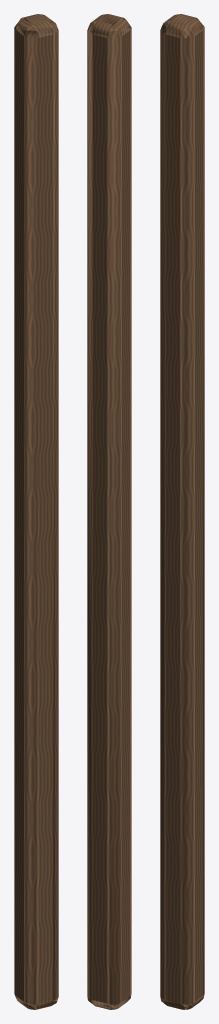
File: ShopCornerPost90.glb
3 renders of one model, left to right at view 1: azimuth 30°, elevation 25°; view 2: azimuth 150°, elevation 25°; view 3: azimuth 330°, elevation 25°, orthographic.
Visible parts, largest first — view 1: PBK_ShopCornerPost90.021; view 2: PBK_ShopCornerPost90.021; view 3: PBK_ShopCornerPost90.021.
Boxes of the visible parts, x1=… form: PBK_ShopCornerPost90.021: x1=14, y1=14, x2=58, y2=1009; PBK_ShopCornerPost90.021: x1=87, y1=14, x2=131, y2=1009; PBK_ShopCornerPost90.021: x1=160, y1=14, x2=204, y2=1009.
Size of the model in its own units: 0.1 by 2.84 by 0.1.
1 material, 1 textured.
